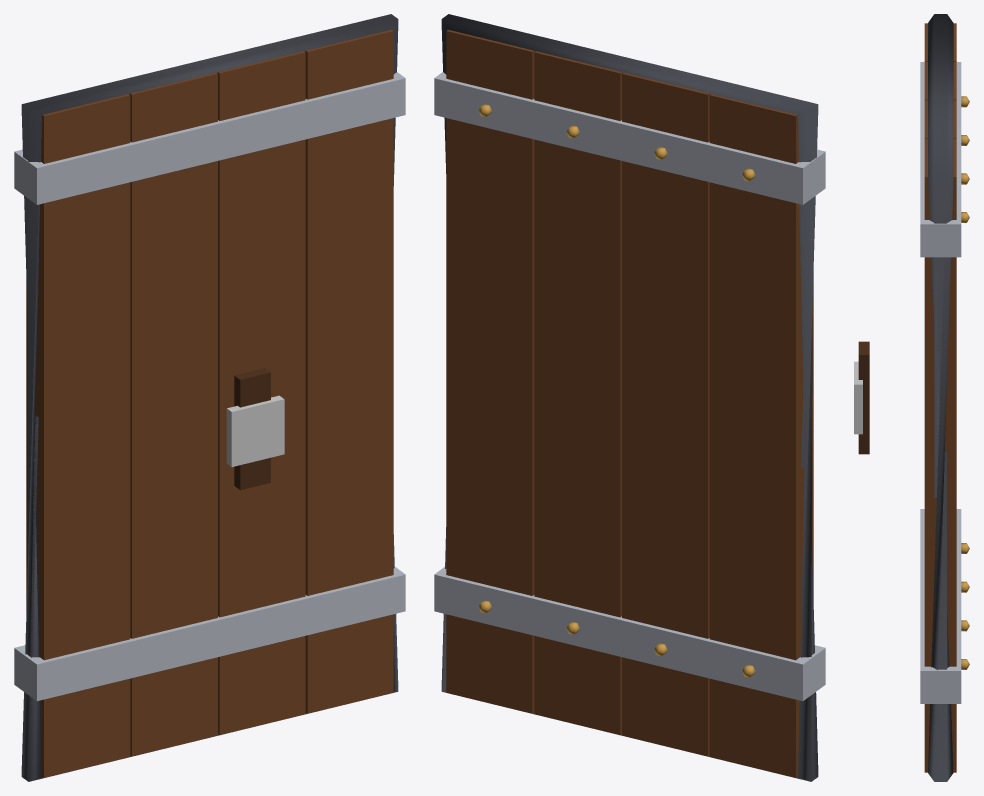
Rendered from shield_tower.glb.
The picture shows the model from 3 angles, left to right: view 1: azimuth 30°, elevation 25°; view 2: azimuth 150°, elevation 25°; view 3: azimuth 270°, elevation 25°; orthographic projection. The views are drawn at different scales.
Visible parts, largest first — view 1: Shield_Tower_Wood, Shield_Tower_Steel, Shield_Tower_Darksteel, Shield_Tower_Trim, Shield_Tower_Leather; view 2: Shield_Tower_Wood, Shield_Tower_Steel, Shield_Tower_Darksteel, Shield_Tower_Brass; view 3: Shield_Tower_Darksteel, Shield_Tower_Wood, Shield_Tower_Steel, Shield_Tower_Leather, Shield_Tower_Brass, Shield_Tower_Trim.
Part boxes in pixels (bbox=[...]): Shield_Tower_Wood: bbox=[26, 29, 393, 777]; Shield_Tower_Steel: bbox=[14, 72, 405, 701]; Shield_Tower_Darksteel: bbox=[21, 14, 398, 781]; Shield_Tower_Trim: bbox=[226, 395, 284, 466]; Shield_Tower_Leather: bbox=[234, 368, 270, 490]; Shield_Tower_Wood: bbox=[446, 29, 813, 777]; Shield_Tower_Steel: bbox=[434, 72, 825, 701]; Shield_Tower_Darksteel: bbox=[441, 14, 818, 781]; Shield_Tower_Brass: bbox=[478, 104, 755, 677]; Shield_Tower_Darksteel: bbox=[928, 14, 953, 781]; Shield_Tower_Wood: bbox=[924, 23, 956, 772]; Shield_Tower_Steel: bbox=[920, 62, 961, 703]; Shield_Tower_Leather: bbox=[858, 341, 869, 454]; Shield_Tower_Brass: bbox=[961, 96, 969, 669]; Shield_Tower_Trim: bbox=[854, 361, 862, 434].
Bounding box in the file's own units: 0.4212 × 0.7318 × 0.127.
